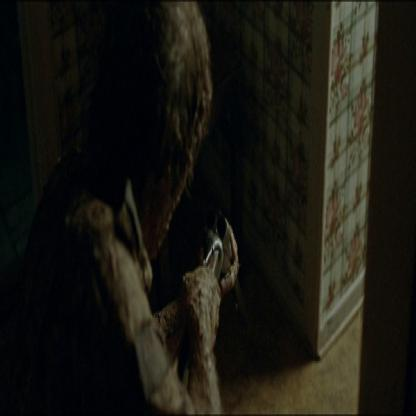Gun: (196, 203, 252, 338)
